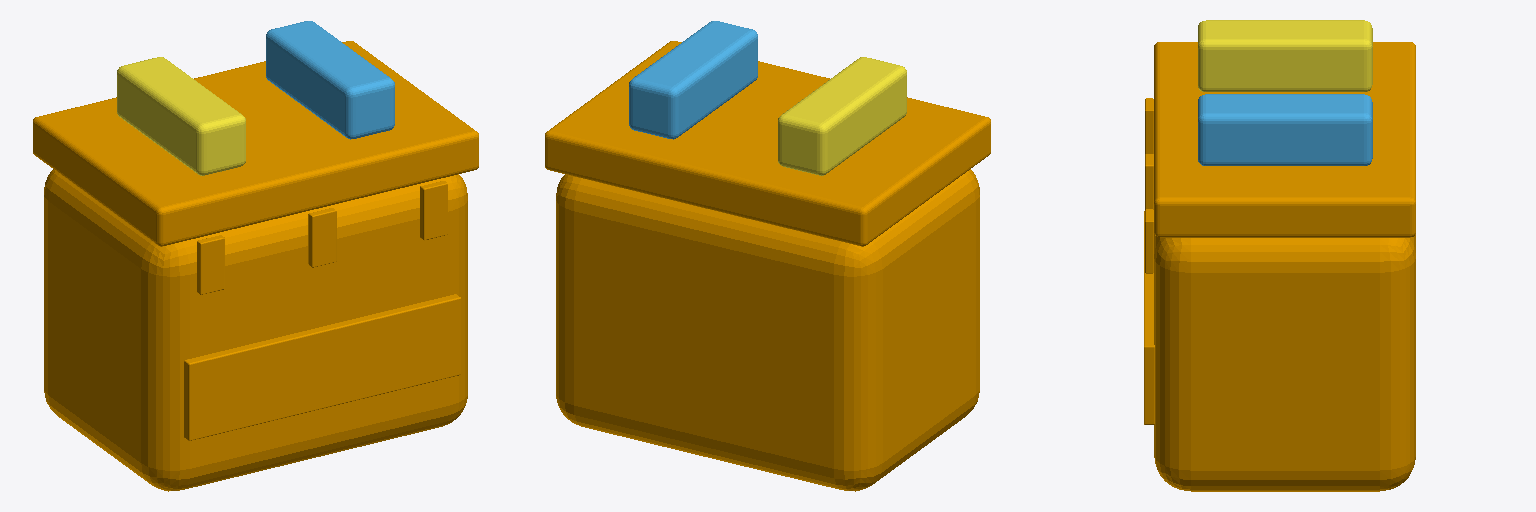
robot.urdf — schunk_mpg_plus_25:
<?xml version="1.0"?>
<robot name="schunk_mpg_plus_25">
<link name="mount"><visual ><geometry ><mesh filename="../meshes/mount.obj"/></geometry></visual><collision ><origin xyz="0 0 0.0115" rpy="0 0 0"/><geometry ><box size="0.026 0.018 0.023"/></geometry></collision></link>
<link name="left_jaw"><visual ><geometry ><mesh filename="../meshes/left_jaw.obj"/></geometry></visual><collision ><origin xyz="0.006 0 0.025" rpy="0 0 0"/><geometry ><box size="0.004 0.012 0.004"/></geometry></collision></link>
<link name="left_contact"></link>
<link name="right_jaw"><visual ><geometry ><mesh filename="../meshes/right_jaw.obj"/></geometry></visual><collision ><origin xyz="-0.006 0 0.025" rpy="0 0 0"/><geometry ><box size="0.004 0.012 0.004"/></geometry></collision></link>
<link name="right_contact"></link>
<link name="tcp"></link>
<joint name="finger_joint" type="prismatic"><parent link="mount"/><child link="left_jaw"/><origin xyz="0 0 0" rpy="0 0 0"/><axis xyz="1 0 0"/><limit lower="0" upper="0.003" velocity="0.04" effort="19"/></joint>
<joint name="left_contact_joint" type="fixed"><parent link="left_jaw"/><child link="left_contact"/><origin xyz="0.004 0 0.025" rpy="0 0 0"/></joint>
<joint name="finger_mirror_joint" type="prismatic"><parent link="mount"/><child link="right_jaw"/><origin xyz="0 0 0" rpy="0 0 0"/><axis xyz="-1 0 0"/><limit lower="0" upper="0.003" velocity="0.04" effort="19"/><mimic joint="finger_joint" multiplier="1" offset="0"/></joint>
<joint name="right_contact_joint" type="fixed"><parent link="right_jaw"/><child link="right_contact"/><origin xyz="-0.004 0 0.025" rpy="0 0 0"/></joint>
<joint name="tcp_joint" type="fixed"><parent link="mount"/><child link="tcp"/><origin xyz="0 0 0.027" rpy="0 0 0"/></joint>
</robot>

--- Facts derived from the render (not from the file) ---
The picture shows the robot from 3 angles, left to right: view 1: azimuth 30°, elevation 25°; view 2: azimuth 150°, elevation 25°; view 3: azimuth 270°, elevation 25°; orthographic projection.
Robot: schunk_mpg_plus_25 — 6 links, 5 joints (2 prismatic, 3 fixed); root link mount; default pose: all joints at 0.
Links seen in each view (by area): view 1: mount, right_jaw, left_jaw; view 2: mount, right_jaw, left_jaw; view 3: mount, right_jaw, left_jaw.
Link boxes in pixels (x1,y1,x2,y2): mount: (33,41,478,491); right_jaw: (117,57,245,175); left_jaw: (266,21,394,139); mount: (545,41,990,491); right_jaw: (778,57,906,175); left_jaw: (629,21,757,139); mount: (1144,42,1415,491); right_jaw: (1198,20,1372,91); left_jaw: (1198,94,1372,165).
Size in the robot's own frame: 0.026 by 0.0187 by 0.027 metres.
Meshes: 3 distinct files referenced, 3 mesh visuals loaded (3 OBJ).
